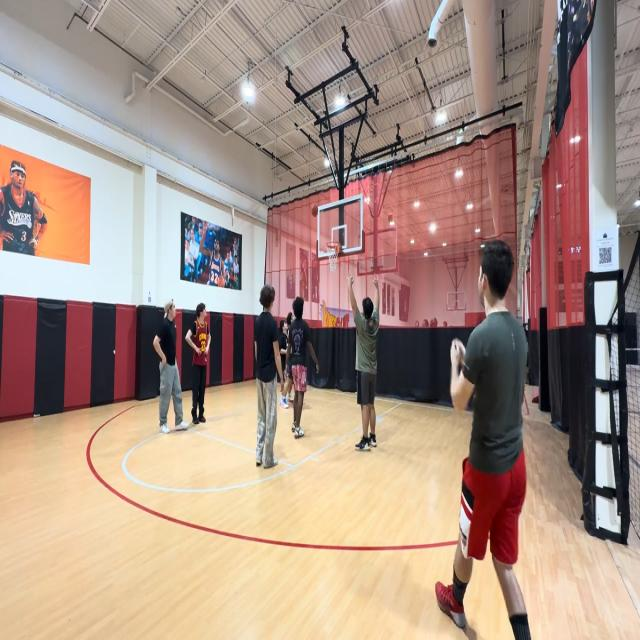Basketball: (310, 203, 319, 219)
Basketball Rim: (326, 242, 341, 270)
Player: (433, 240, 542, 640), (346, 268, 379, 452), (254, 284, 284, 468), (287, 297, 320, 443), (154, 298, 188, 432), (186, 304, 211, 423)
